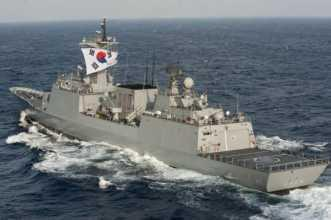warship: (9, 19, 326, 190)
